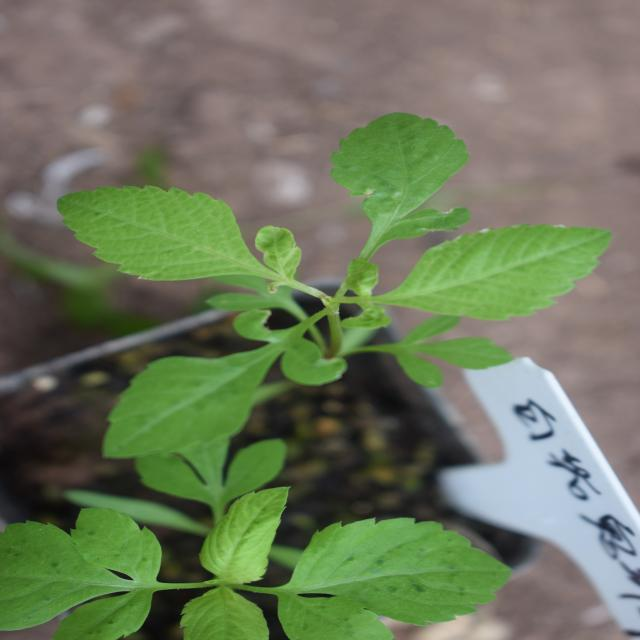Bidens pilosa: (107, 34, 467, 566)
